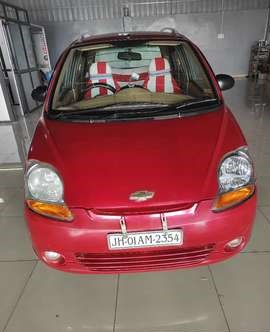JH01AM2354: (108, 231, 181, 247)
